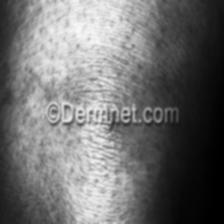Toxin: (62, 125, 150, 196)
